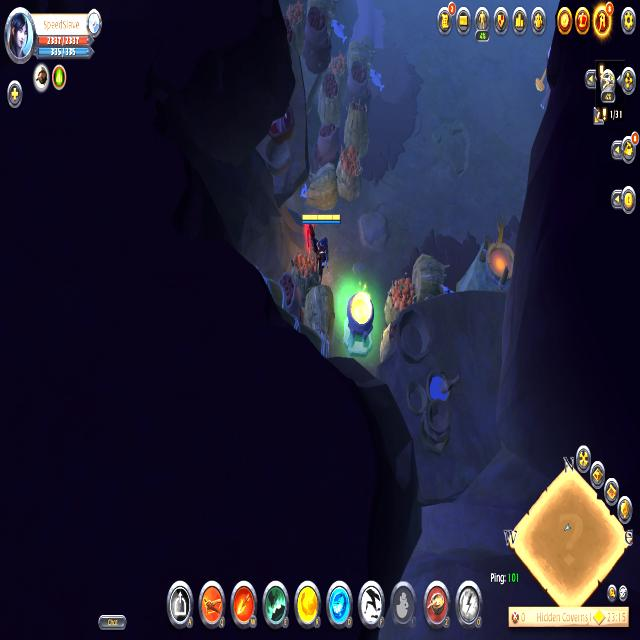fiber: (340, 282, 379, 364)
red: (298, 207, 342, 290)
